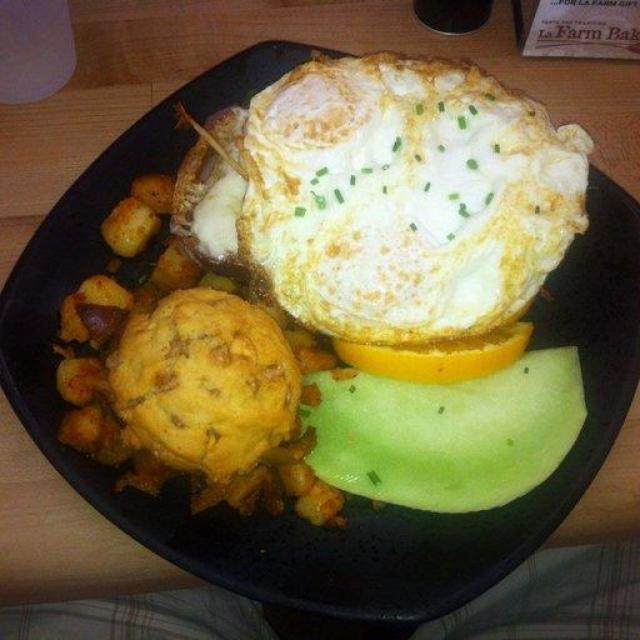food_waste: (64, 51, 596, 515)
